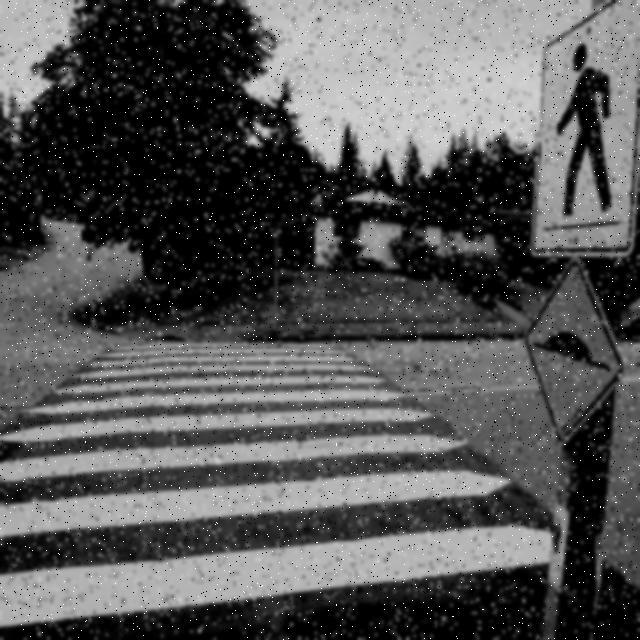crosswalk: (0, 311, 568, 628)
